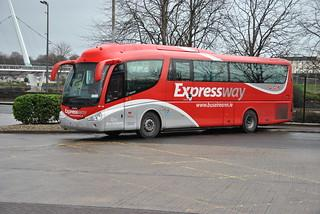bus: (51, 43, 296, 139)
